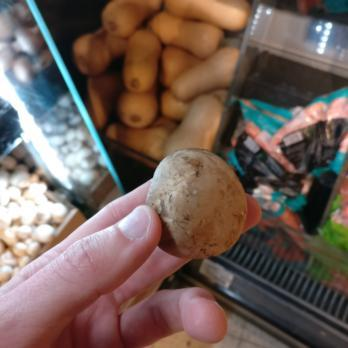Mushroom: (139, 144, 244, 263)
